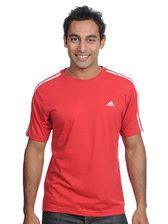clothoes: (22, 62, 147, 216)
